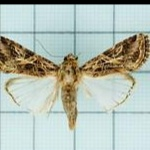Spodoptera litura: (0, 33, 149, 131)
